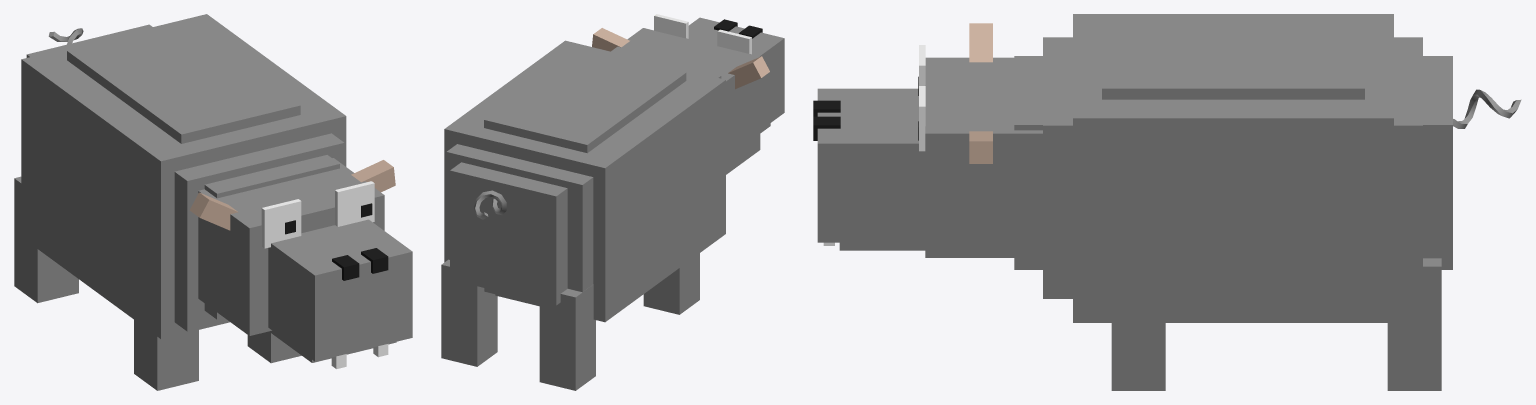
File: hippo.obj
3 views of the same model, side by side, from view 1: azimuth 30°, elevation 25°; view 2: azimuth 150°, elevation 25°; view 3: azimuth 270°, elevation 25° (orthographic). The views are drawn at different scales.
Parts seen in each view (by area): view 1: body Hippo Hippo_set pCube14, Hippo Hippo_set head snout snout, body Hippo Hippo_set pCube23, Hippo Hippo_set head headtop head1, body Hippo Hippo_set pCube13, Hippo Hippo_set feet foot1, Hippo Hippo_set feet foot2, pCube2 body Hippo Hippo_set, Hippo Hippo_set eyeGrp head eye_right eye2, Hippo Hippo_set eye_left eyeGrp head eye1, Hippo Hippo_set foot feet, Hippo Hippo_set head headtop ear2 (+3 smaller); view 2: body Hippo Hippo_set pCube14, pCube2 body Hippo Hippo_set, body Hippo Hippo_set pCube23, Hippo Hippo_set head headtop head1, body Hippo Hippo_set pCube13, Hippo Hippo_set feet foot2, Hippo Hippo_set feet foot3, Hippo Hippo_set head snout snout, Hippo Hippo_set feet foot1, Hippo Hippo_set head headtop ear2, Hippo Hippo_set eye_left eyeGrp head eye1, Hippo Hippo_set eyeGrp head eye_right eye2 (+2 smaller); view 3: body Hippo Hippo_set pCube14, Hippo Hippo_set head headtop head1, body Hippo Hippo_set pCube23, Hippo Hippo_set head snout snout, body Hippo Hippo_set pCube13, pCube2 body Hippo Hippo_set, Hippo Hippo_set feet foot3, Hippo Hippo_set foot feet, Hippo Hippo_set head headtop ear2, Hippo Hippo_set head ear headtop, Hippo Hippo_set head snout jaw, Hippo Hippo_set pHelix1.
Part boxes in pixels (x1=…): body Hippo Hippo_set pCube14: x1=21, y1=14, x2=346, y2=338; Hippo Hippo_set head snout snout: x1=268, y1=219, x2=412, y2=361; body Hippo Hippo_set pCube23: x1=67, y1=22, x2=300, y2=143; Hippo Hippo_set head headtop head1: x1=198, y1=158, x2=384, y2=335; body Hippo Hippo_set pCube13: x1=174, y1=133, x2=344, y2=331; Hippo Hippo_set feet foot1: x1=134, y1=320, x2=198, y2=390; Hippo Hippo_set feet foot2: x1=14, y1=176, x2=78, y2=303; pCube2 body Hippo Hippo_set: x1=26, y1=24, x2=339, y2=319; Hippo Hippo_set eyeGrp head eye_right eye2: x1=261, y1=199, x2=301, y2=248; Hippo Hippo_set eye_left eyeGrp head eye1: x1=335, y1=181, x2=374, y2=226; Hippo Hippo_set foot feet: x1=247, y1=331, x2=301, y2=363; Hippo Hippo_set head headtop ear2: x1=189, y1=192, x2=238, y2=230; body Hippo Hippo_set pCube14: x1=444, y1=40, x2=725, y2=322; pCube2 body Hippo Hippo_set: x1=450, y1=50, x2=721, y2=305; body Hippo Hippo_set pCube23: x1=484, y1=47, x2=686, y2=153; Hippo Hippo_set head headtop head1: x1=611, y1=28, x2=760, y2=174; body Hippo Hippo_set pCube13: x1=446, y1=144, x2=593, y2=304; Hippo Hippo_set feet foot2: x1=539, y1=284, x2=595, y2=390; Hippo Hippo_set feet foot3: x1=441, y1=259, x2=497, y2=366; Hippo Hippo_set head snout snout: x1=688, y1=17, x2=784, y2=130; Hippo Hippo_set feet foot1: x1=643, y1=253, x2=699, y2=314; Hippo Hippo_set head headtop ear2: x1=728, y1=56, x2=769, y2=89; Hippo Hippo_set eye_left eyeGrp head eye1: x1=654, y1=14, x2=688, y2=38; Hippo Hippo_set eyeGrp head eye_right eye2: x1=717, y1=29, x2=751, y2=54; body Hippo Hippo_set pCube14: x1=1073, y1=14, x2=1393, y2=322; Hippo Hippo_set head headtop head1: x1=925, y1=57, x2=1042, y2=257; body Hippo Hippo_set pCube23: x1=1102, y1=21, x2=1364, y2=99; Hippo Hippo_set head snout snout: x1=817, y1=88, x2=925, y2=242; body Hippo Hippo_set pCube13: x1=1043, y1=37, x2=1422, y2=298; pCube2 body Hippo Hippo_set: x1=1014, y1=56, x2=1452, y2=269; Hippo Hippo_set feet foot3: x1=1387, y1=258, x2=1441, y2=390; Hippo Hippo_set foot feet: x1=1111, y1=323, x2=1165, y2=390; Hippo Hippo_set head headtop ear2: x1=969, y1=23, x2=992, y2=62; Hippo Hippo_set head ear headtop: x1=969, y1=131, x2=992, y2=163; Hippo Hippo_set head snout jaw: x1=839, y1=242, x2=925, y2=250; Hippo Hippo_set pHelix1: x1=1453, y1=89, x2=1521, y2=128.
Size of the model in its own units: 35.6 by 44.21 by 96.75.
Materials: 1 (1 with a texture image).
